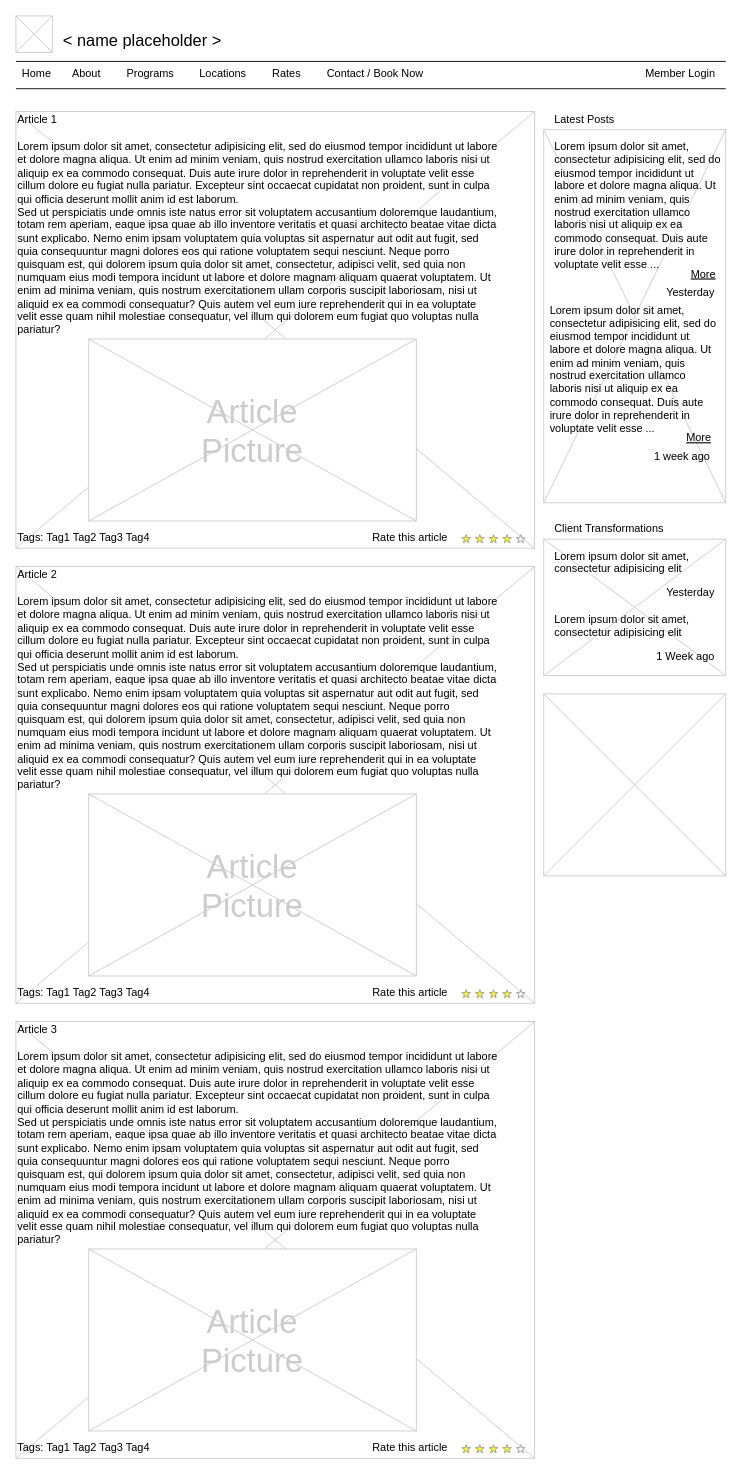
Some shapes in this 742 by 1474 pixel diagram are drawn without their labels. The centre of each missing label's shape, as x and y in pixels:
logo here: the point at 33,33
Tag Cloud: the point at 634,784
